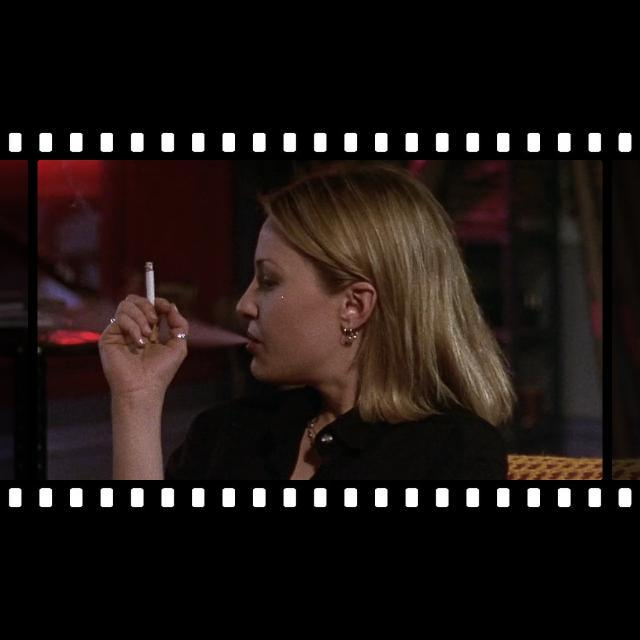rokok: (139, 256, 161, 306)
